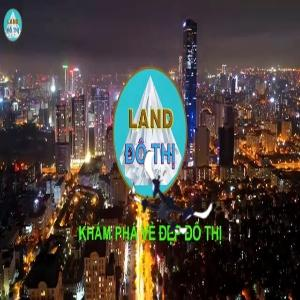drone: (129, 158, 216, 245)
